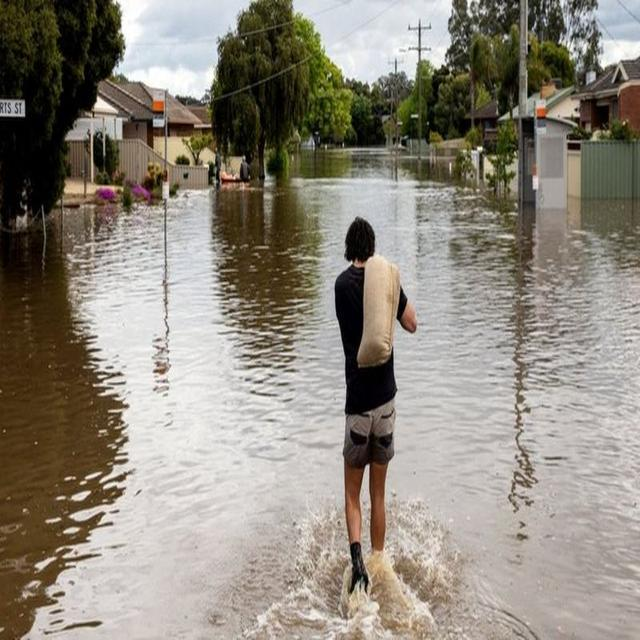Person-RiskLevel2: (327, 208, 423, 603)
